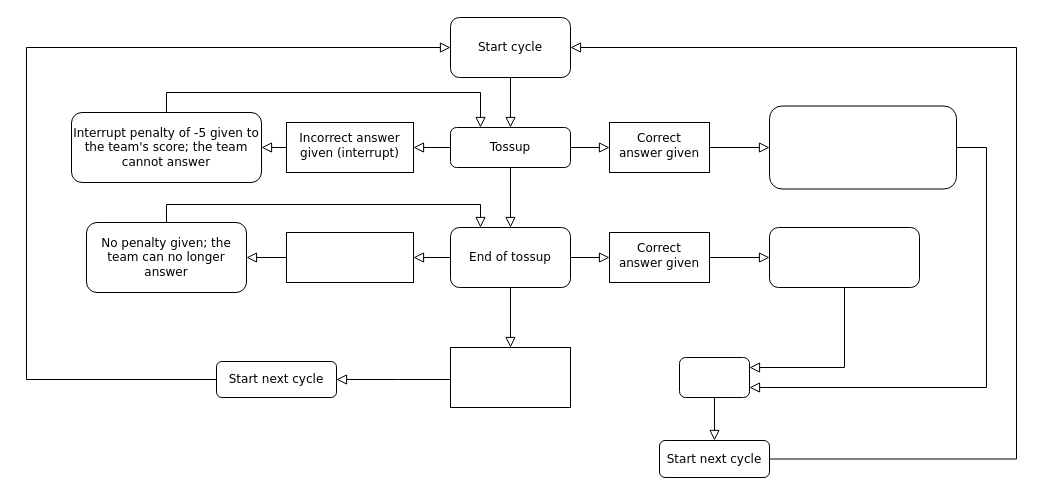
The diagram is 1044 pixels wide and 495 high, and some of its shapes have lost their labels. Each missing label, with the centre of its shape:
10 points awarded to the team: point 844,257
Bonus: point 714,377
Incorrect answer given: point 350,257
No correct answers given; dead tossup: point 510,377
Team awarded 15 points before power mark, 10 points after power mark: point 862,147
